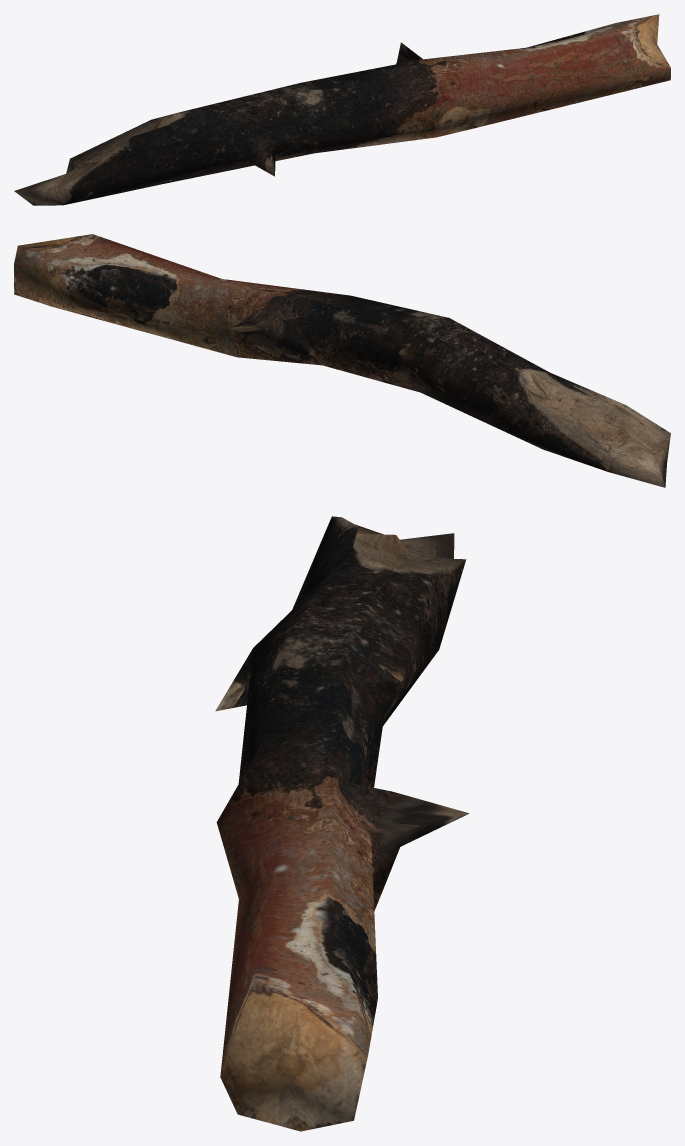
File: trash7.glb
The picture shows the model from 3 angles, top to bottom: view 1: azimuth 30°, elevation 25°; view 2: azimuth 150°, elevation 25°; view 3: azimuth 270°, elevation 25°; orthographic projection. The views are drawn at different scales.
Visible parts, largest first — view 1: vcthdcbiw_LOD0_TIER3_000; view 2: vcthdcbiw_LOD0_TIER3_000; view 3: vcthdcbiw_LOD0_TIER3_000.
Part boxes in pixels (x1,y1,x2,y2): vcthdcbiw_LOD0_TIER3_000: (14, 14, 670, 205); vcthdcbiw_LOD0_TIER3_000: (14, 234, 670, 487); vcthdcbiw_LOD0_TIER3_000: (215, 516, 469, 1131).
Size of the model in its own units: 0.2003 by 0.024 by 0.0359.
Materials: 1 (1 with a texture image).
